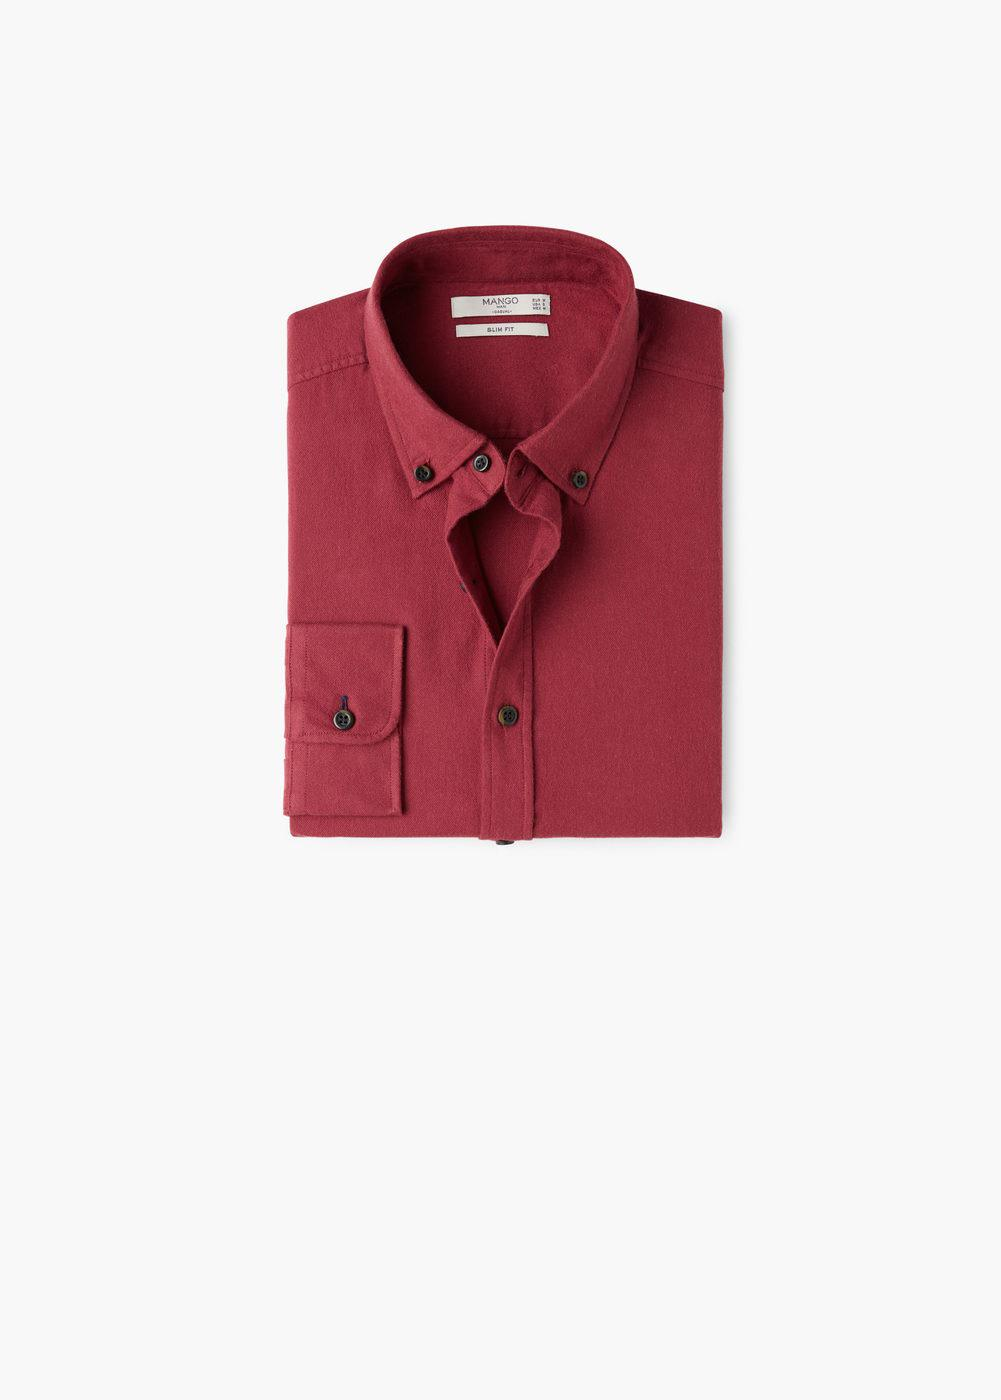teeshirt: (240, 210, 757, 858)
